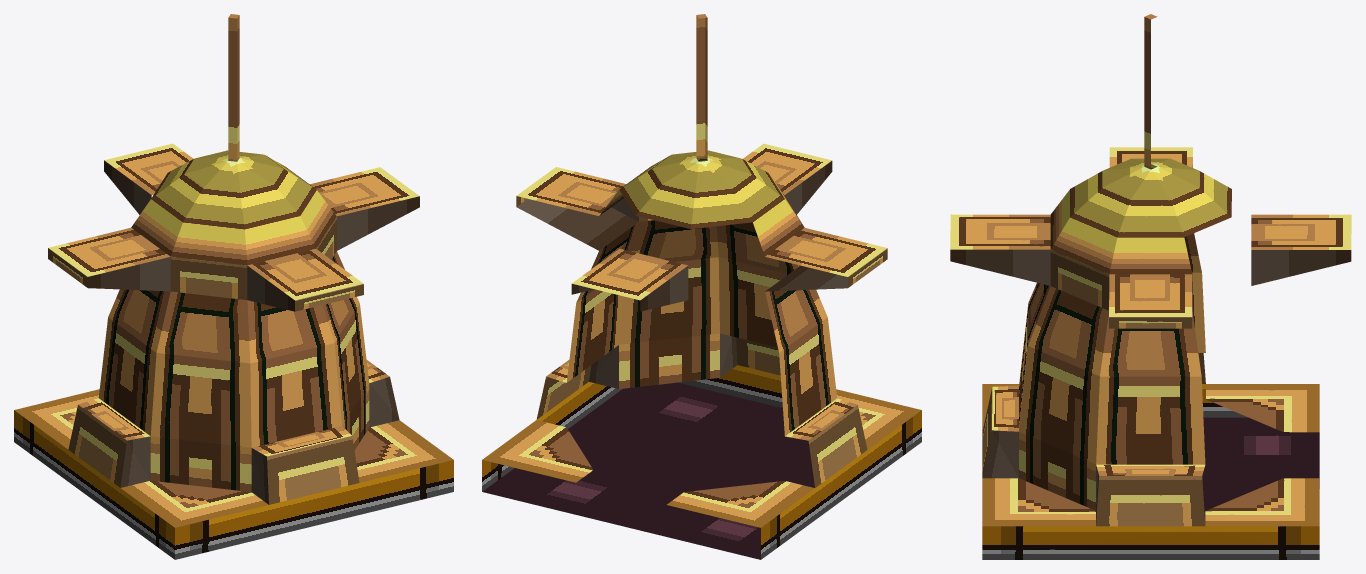
Rendered from top_bonus_4.obj.
The picture shows the model from 3 angles, left to right: view 1: azimuth 30°, elevation 25°; view 2: azimuth 150°, elevation 25°; view 3: azimuth 270°, elevation 25°; orthographic projection. The views are drawn at different scales.
Visible parts, largest first — view 1: top_bonus_4_part0; view 2: top_bonus_4_part0, top_bonus_4_part1; view 3: top_bonus_4_part0, top_bonus_4_part1.
Part boxes in pixels (x1,y1,x2,y2): top_bonus_4_part0: (14, 14, 453, 559); top_bonus_4_part0: (482, 14, 921, 559); top_bonus_4_part1: (482, 382, 814, 559); top_bonus_4_part0: (950, 14, 1351, 559); top_bonus_4_part1: (1202, 417, 1319, 522).
Bounding box in the file's own units: 353 × 459 × 353.
2 materials, 2 textured.
